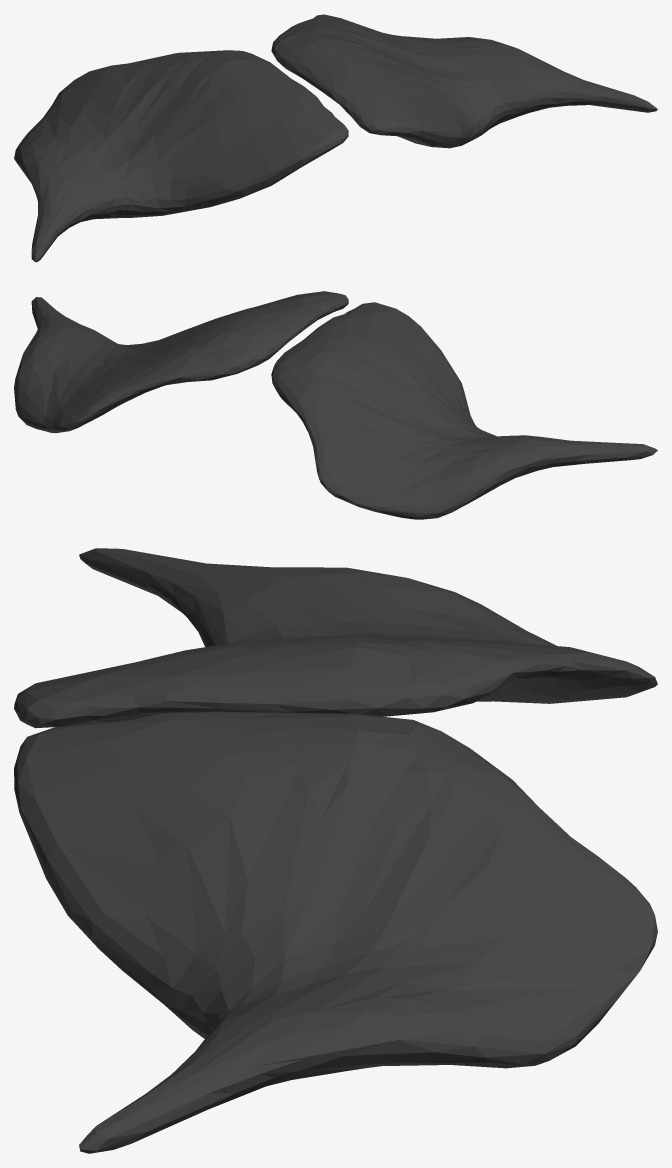
The model's file is m_obturator_externus.glb.
The picture shows the model from 3 angles, top to bottom: view 1: azimuth 30°, elevation 25°; view 2: azimuth 150°, elevation 25°; view 3: azimuth 270°, elevation 25°; orthographic projection. The views are drawn at different scales.
Visible parts, largest first — view 1: m_obturator_externus; view 2: m_obturator_externus; view 3: m_obturator_externus.
Boxes of the visible parts, x1,y1,x2,y2 form: m_obturator_externus: [14, 14, 657, 262]; m_obturator_externus: [14, 291, 657, 519]; m_obturator_externus: [14, 548, 657, 1153].
Size of the model in its own units: 0.00421 by 0.000669 by 0.00193.
Materials: 1 (1 with a texture image).
